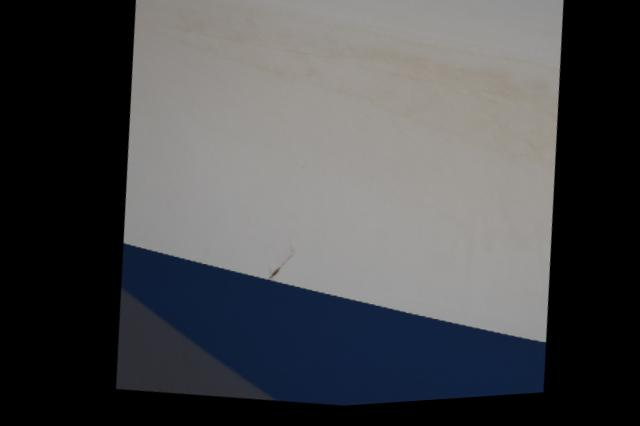damage: (258, 253, 290, 286)
